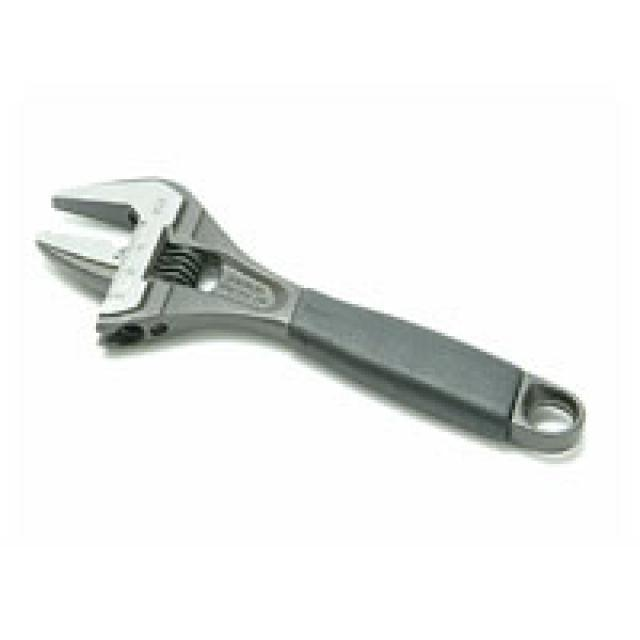wrench: (28, 164, 592, 460)
